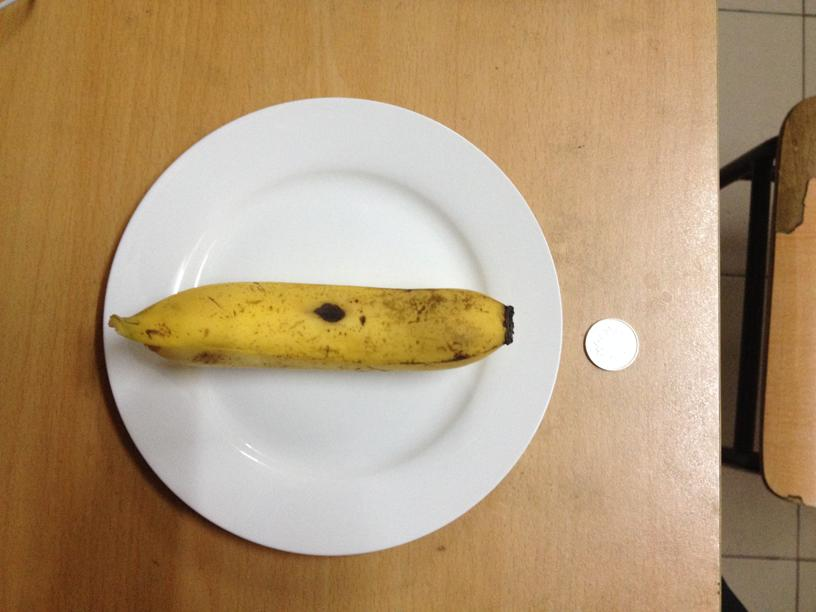banana: (106, 286, 511, 371)
coin: (583, 318, 638, 370)
